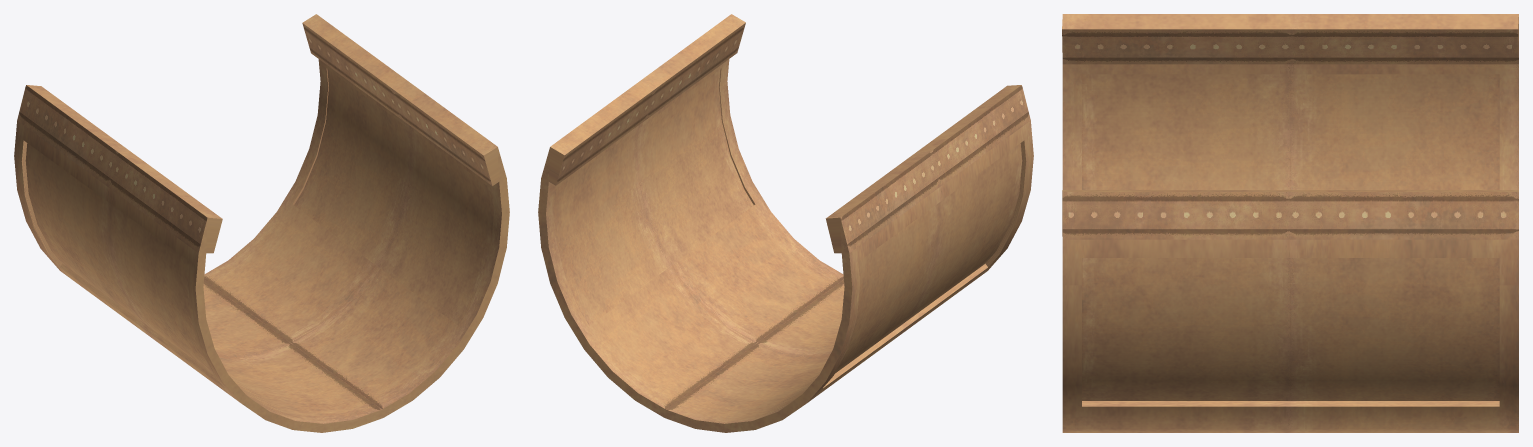
Rendered from Small_Wall_B.fbx.
3 renders of one model, left to right at view 1: azimuth 30°, elevation 25°; view 2: azimuth 150°, elevation 25°; view 3: azimuth 270°, elevation 25°, orthographic. The views are drawn at different scales.
Parts seen in each view (by area): view 1: Small_Wall_B; view 2: Small_Wall_B; view 3: Small_Wall_B.
Boxes of the visible parts, x1,y1,x2,y2 form: Small_Wall_B: [14, 14, 509, 432]; Small_Wall_B: [538, 14, 1033, 432]; Small_Wall_B: [1062, 14, 1518, 432].
Bounding box in the file's own units: 4 × 3 × 4.01.
